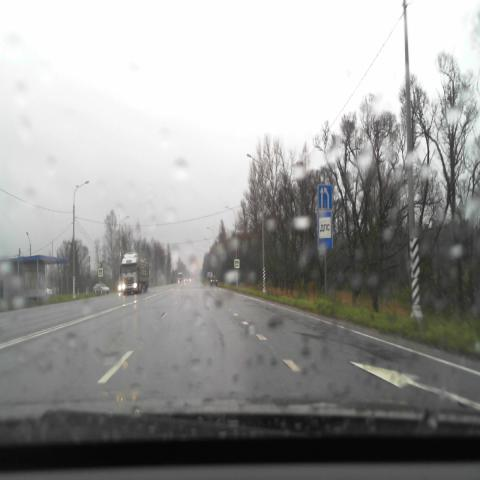7_12: (317, 210, 333, 250)
